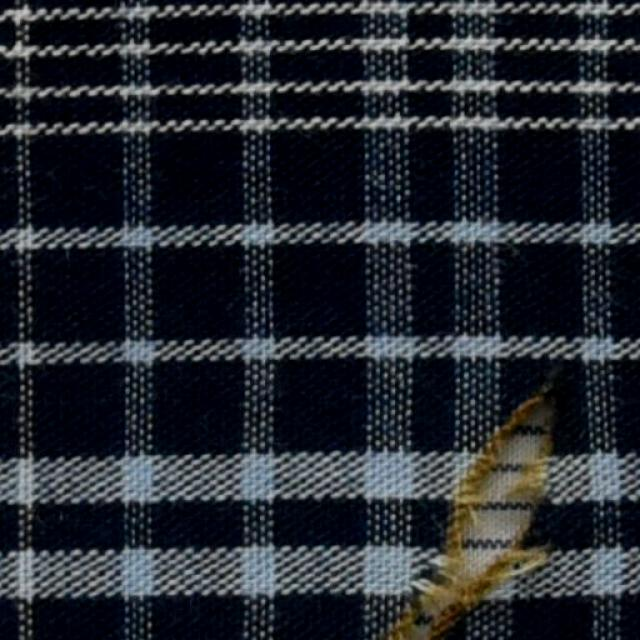Hole: (467, 411, 546, 567)
Stain: (370, 391, 547, 639)
